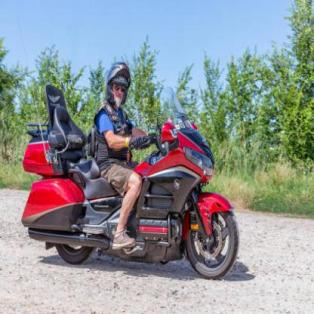Motocicleta: (19, 81, 244, 282)
